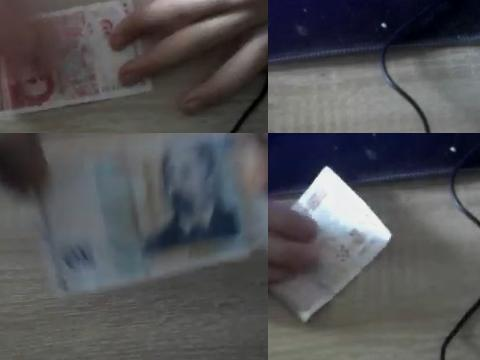20leva: (39, 133, 246, 295)
5leva: (270, 167, 393, 324), (51, 0, 148, 96)
